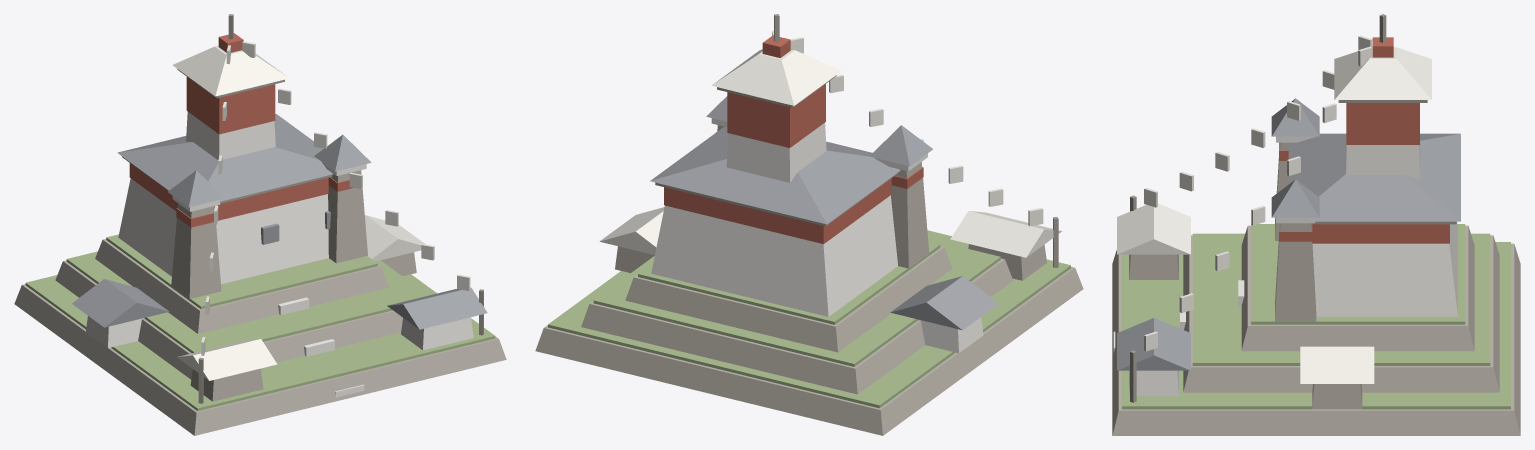
Rendered from capital.glb.
3 views of the same model, side by side, from view 1: azimuth 30°, elevation 25°; view 2: azimuth 150°, elevation 25°; view 3: azimuth 270°, elevation 25° (orthographic). The views are drawn at different scales.
Visible parts, largest first — view 1: highland_capital; view 2: highland_capital; view 3: highland_capital.
Boxes of the visible parts, x1=… form: highland_capital: x1=14, y1=14, x2=506, y2=435; highland_capital: x1=535, y1=14, x2=1083, y2=435; highland_capital: x1=1112, y1=14, x2=1520, y2=435.
Size of the model in its own units: 1 by 0.8644 by 0.9561.
